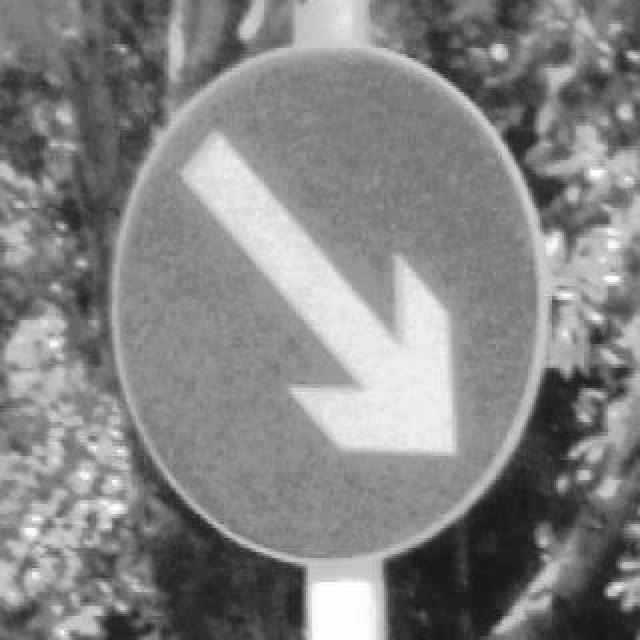keep right: (106, 38, 546, 562)
